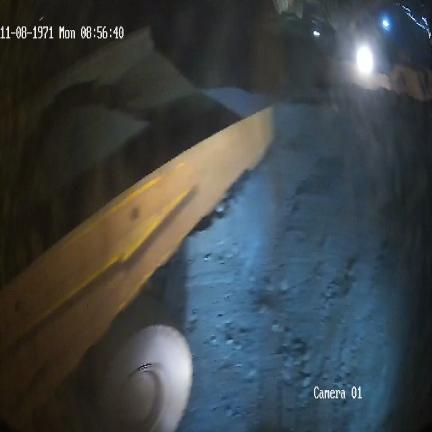pile: (18, 101, 149, 218)
